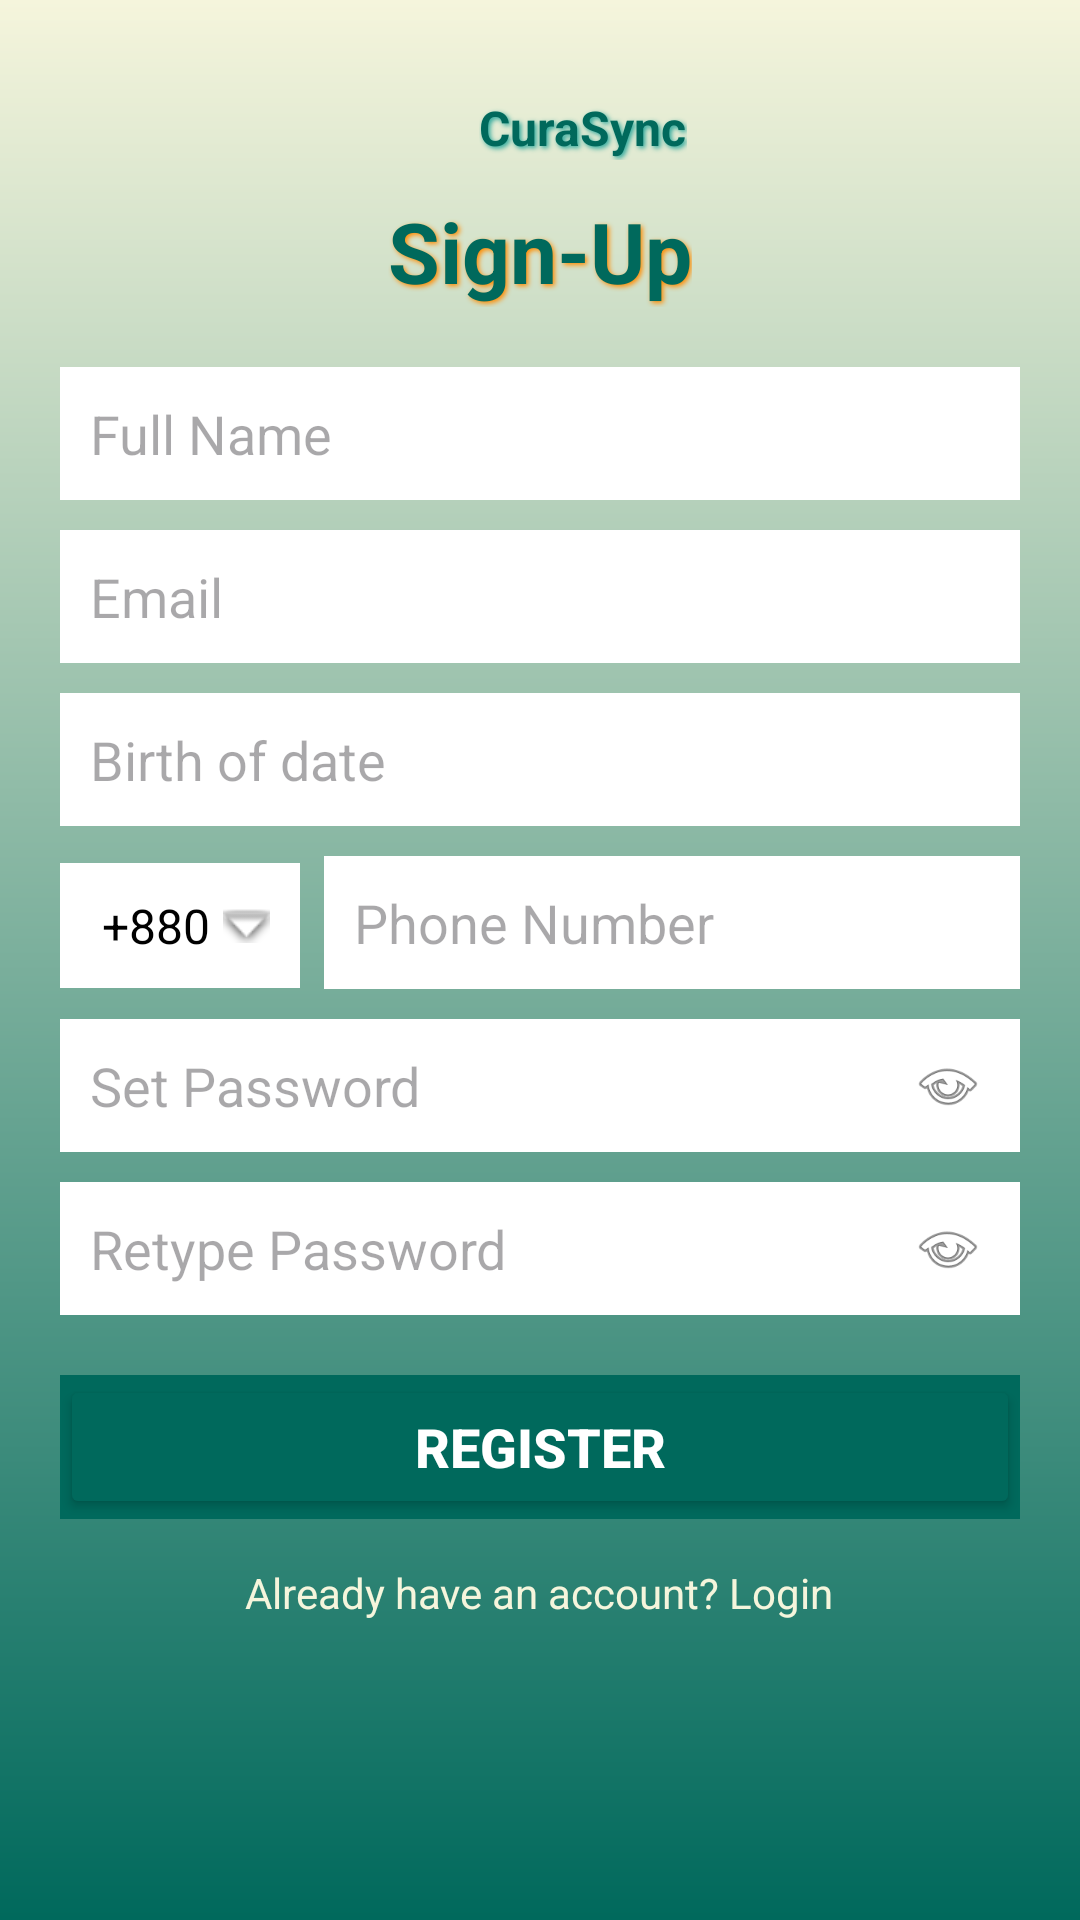

Icons on this 1080 x 1920 Android screen, each with its box as (x1, y1, x2, y2):
Show Password: (919, 1068, 977, 1105), (919, 1231, 977, 1268)
